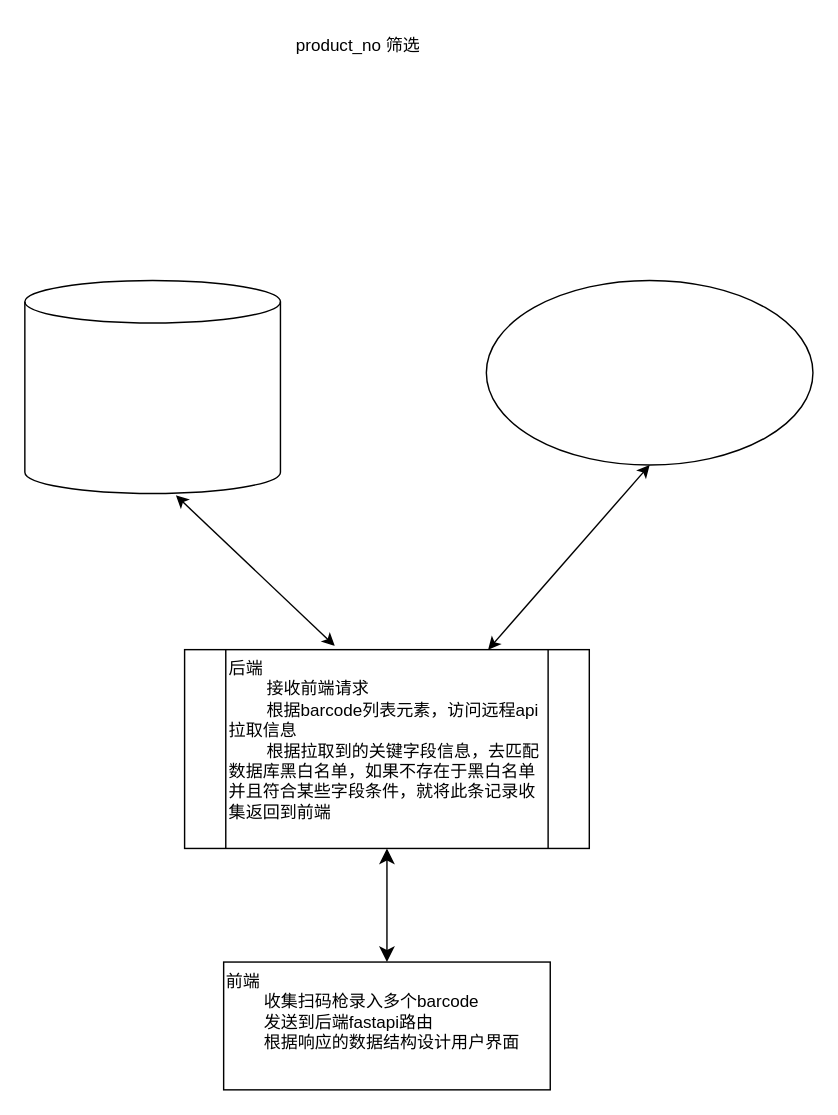
The diagram is 838 pixels wide and 1115 high, and some of its shapes have lost their labels. Here are the shapes that lost their labels. From the top down, the centre of each, then its label:
At point 151,386: "局域网数据库 黑名单表 白名单表".
At point 649,372: "远程API".
